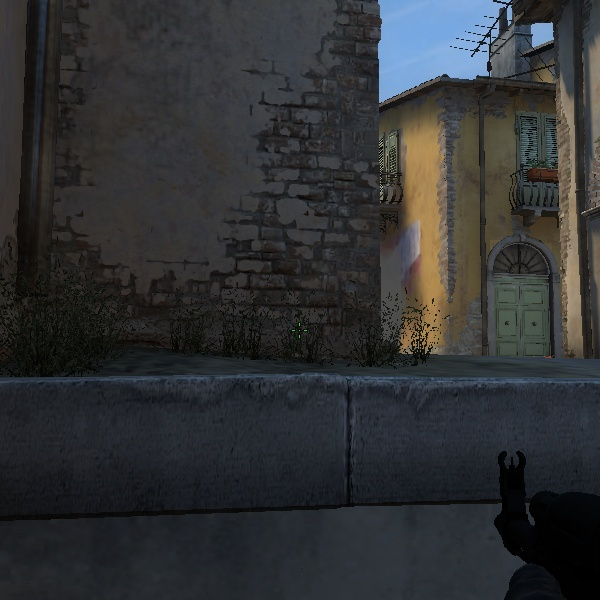t_body: (382, 309, 443, 363)
